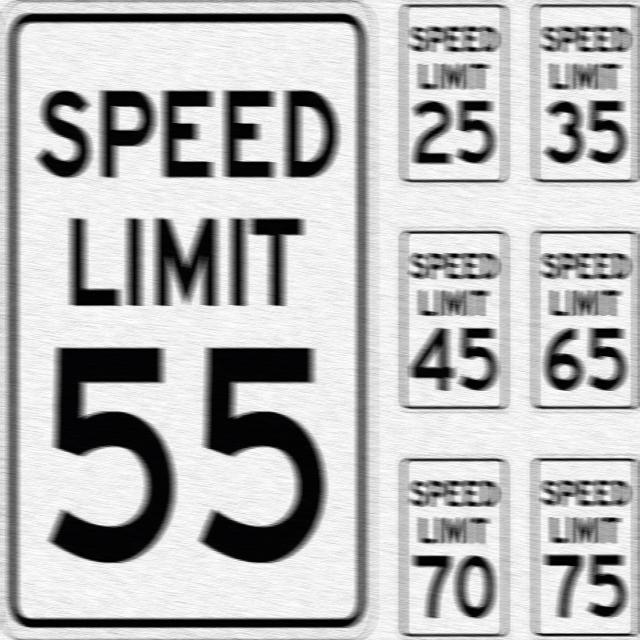speedLimit25: (404, 6, 512, 182)
speedLimit35: (532, 0, 639, 186)
speedLimit45: (396, 226, 511, 416)
speedLimit65: (535, 226, 637, 411)
speedLimit70: (401, 446, 513, 634)
